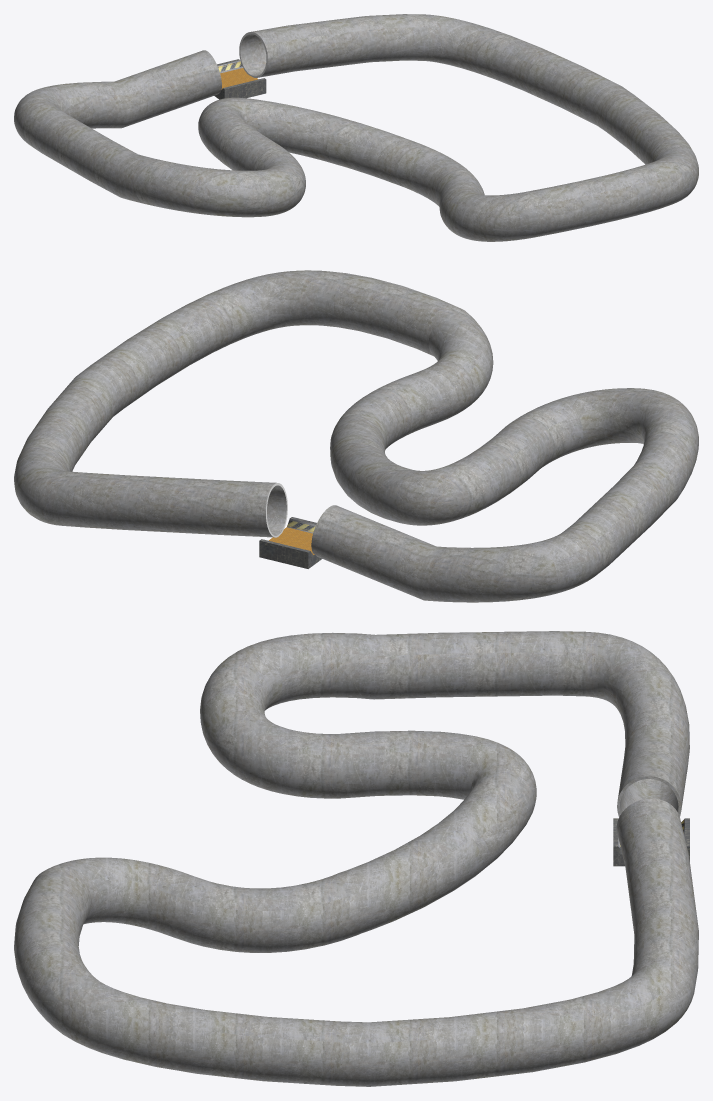
File: looptrak.obj
The picture shows the model from 3 angles, top to bottom: view 1: azimuth 30°, elevation 25°; view 2: azimuth 150°, elevation 25°; view 3: azimuth 270°, elevation 25°; orthographic projection. The views are drawn at different scales.
Parts seen in each view (by area): view 1: Sweep, Sześcian_1, Sweep.1; view 2: Sweep, Sześcian_1, Sweep.1; view 3: Sweep, Sweep.1.
Part boxes in pixels (box(x1,y1,x2,y2)): Sweep: box(14, 14, 698, 241); Sześcian_1: box(214, 59, 266, 99); Sweep.1: box(240, 34, 266, 76); Sweep: box(14, 270, 698, 602); Sześcian_1: box(259, 517, 321, 568); Sweep.1: box(267, 485, 286, 535); Sweep: box(14, 631, 698, 1086); Sweep.1: box(620, 779, 678, 813).
Bounding box in the file's own units: 25.52 × 4.46 × 20.59.
7 materials, 6 textured.
